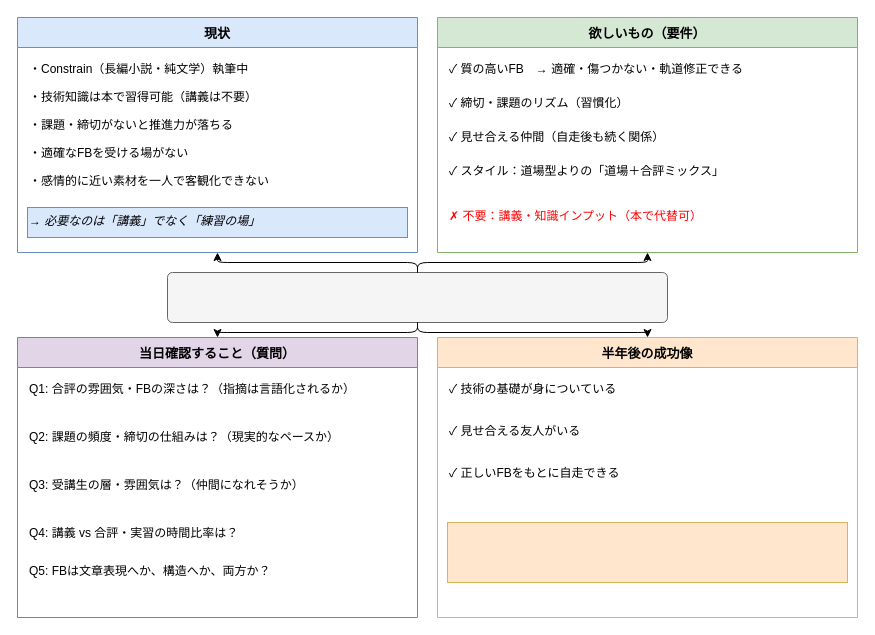
Image size: 875x635. Some labels were removed from this diagram. Each missing label, with the centre of its shape:
"→ ゴールは「学校を卒業すること」でなく 「学校なしで正しく書き続けられること」" goes at pixel 647 552.
"大阪文学学校 見学前 — 自分の要件整理" goes at pixel 417 297.
